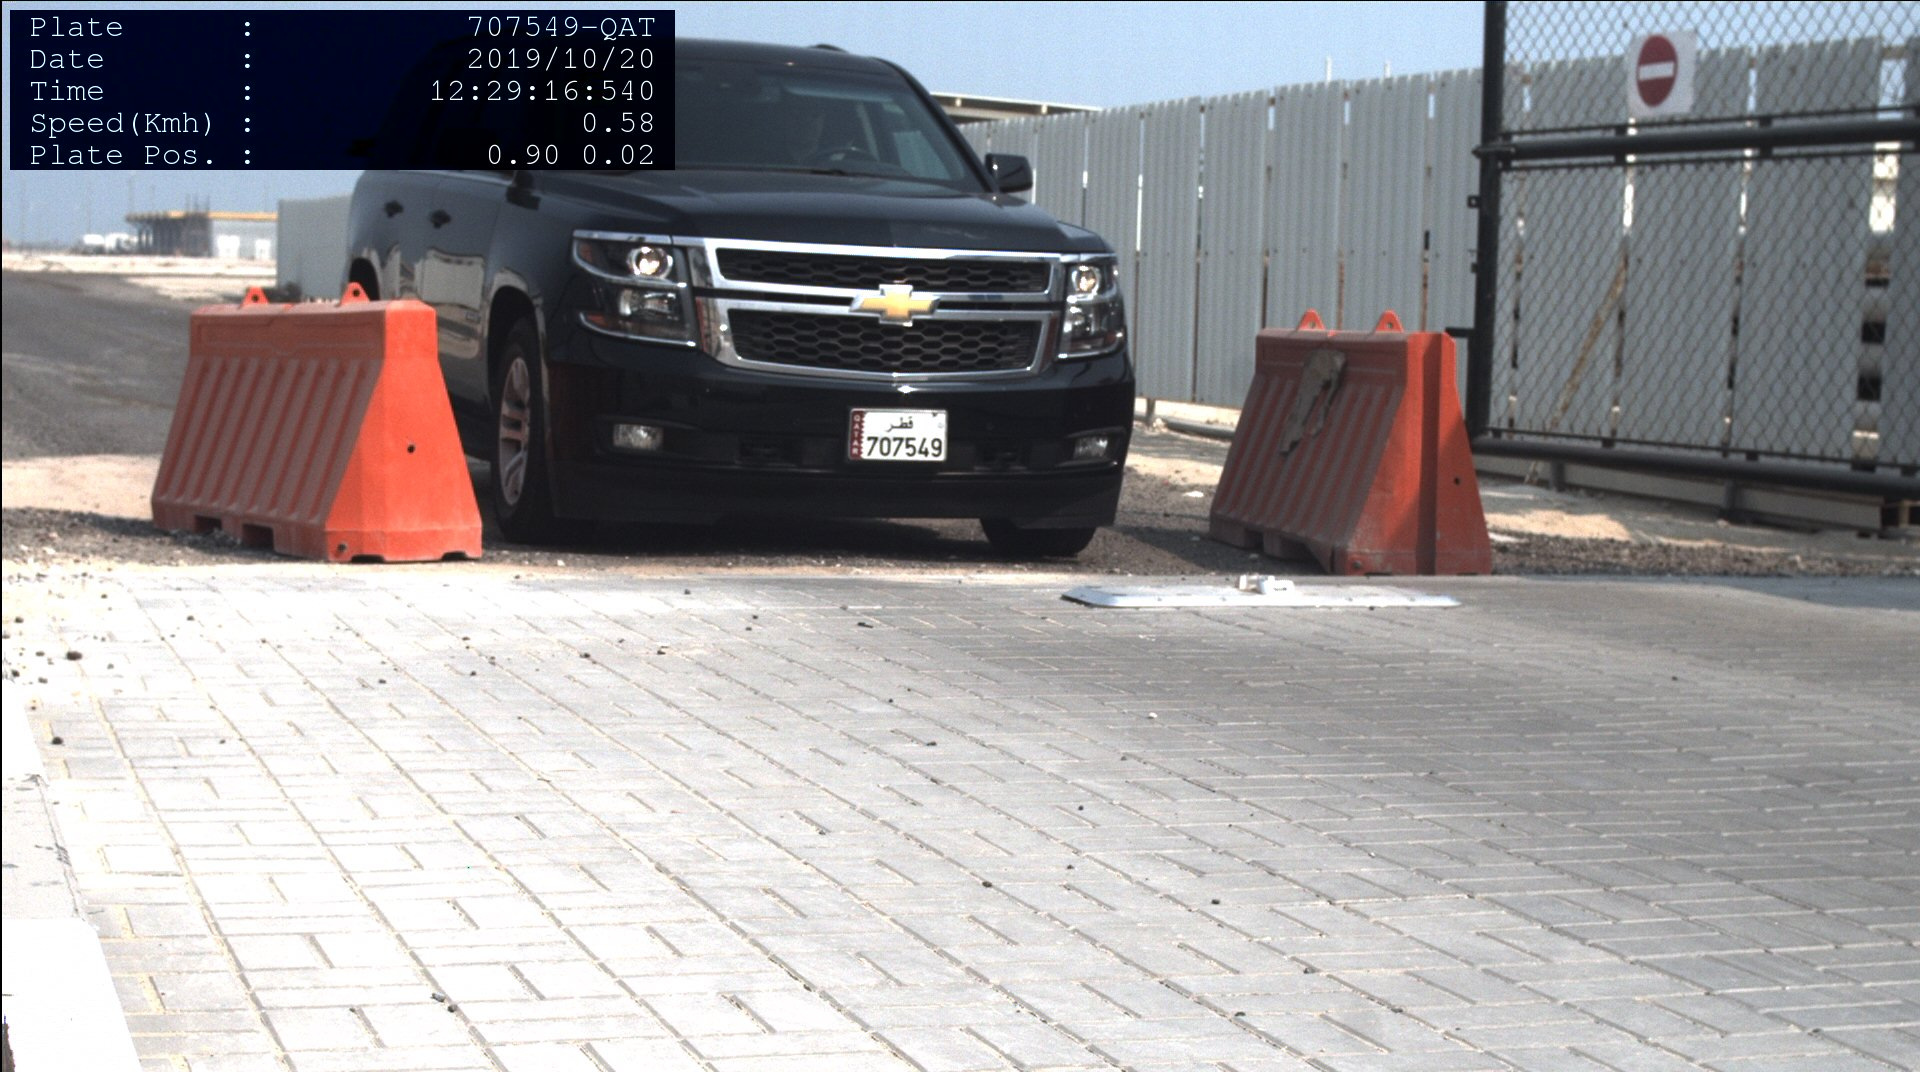License Plate: (851, 410, 946, 462)
